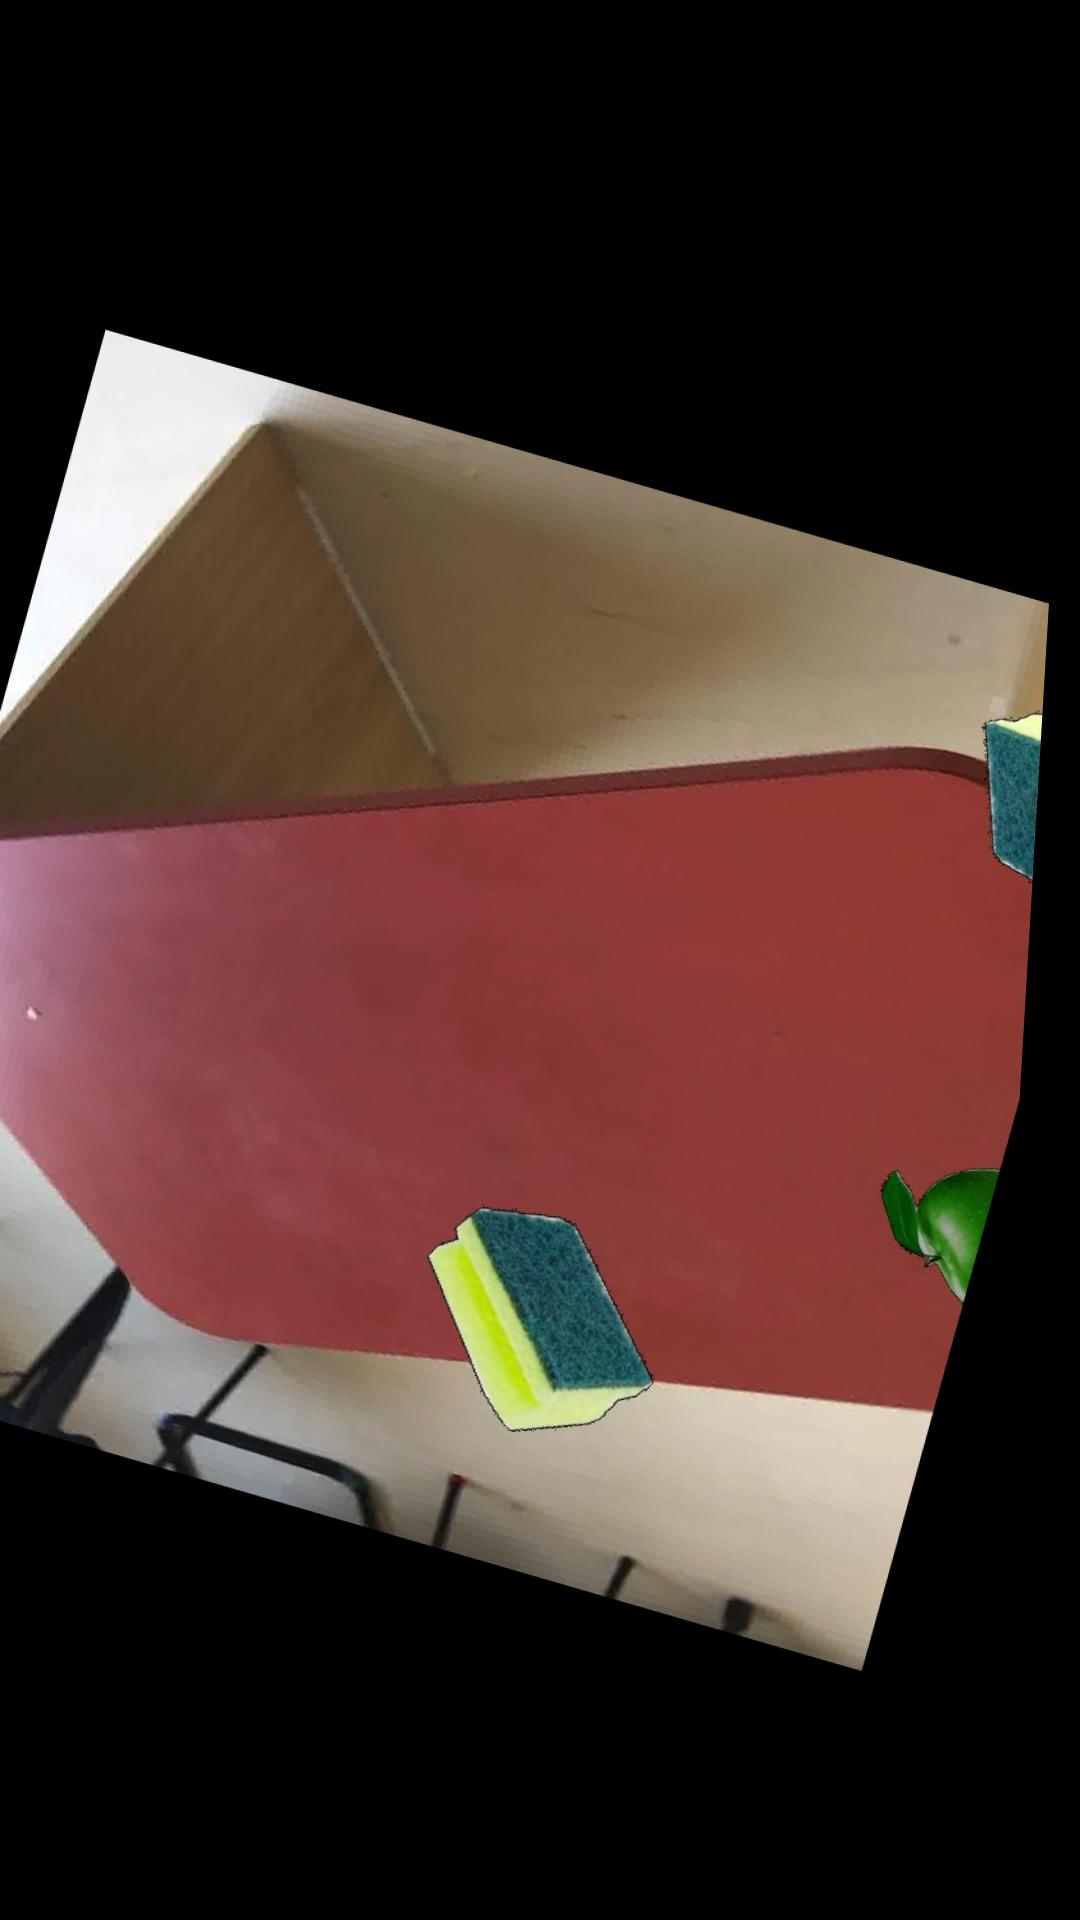green apple: (897, 1150, 1014, 1284)
sponge: (444, 1196, 673, 1420), (992, 694, 1051, 861)
